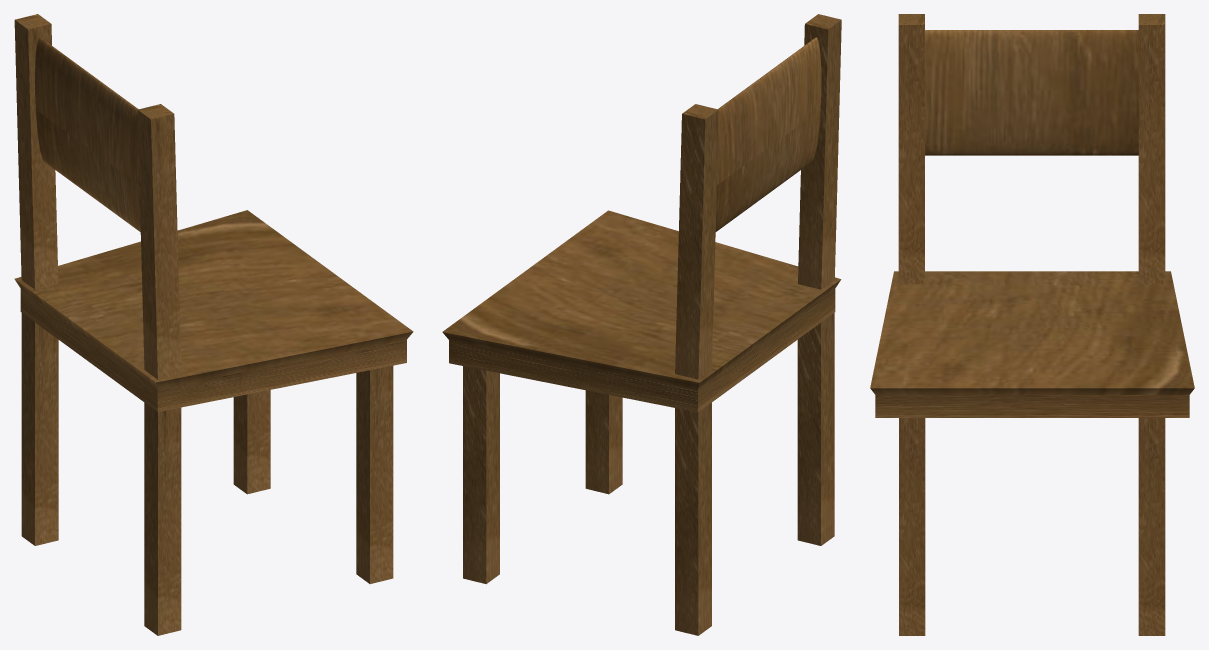
The model's file is Chair.fbx.
3 renders of one model, left to right at view 1: azimuth 30°, elevation 25°; view 2: azimuth 150°, elevation 25°; view 3: azimuth 270°, elevation 25°, orthographic. The views are drawn at different scales.
Parts seen in each view (by area): view 1: polySurface1; view 2: polySurface1; view 3: polySurface1.
Boxes of the visible parts, box(x1,y1,x2,y2) form: polySurface1: box(14, 14, 413, 635); polySurface1: box(442, 14, 841, 635); polySurface1: box(870, 14, 1194, 635).
Bounding box in the file's own units: 3.49 × 6.97 × 4.05.
Materials: 1 (1 with a texture image).
